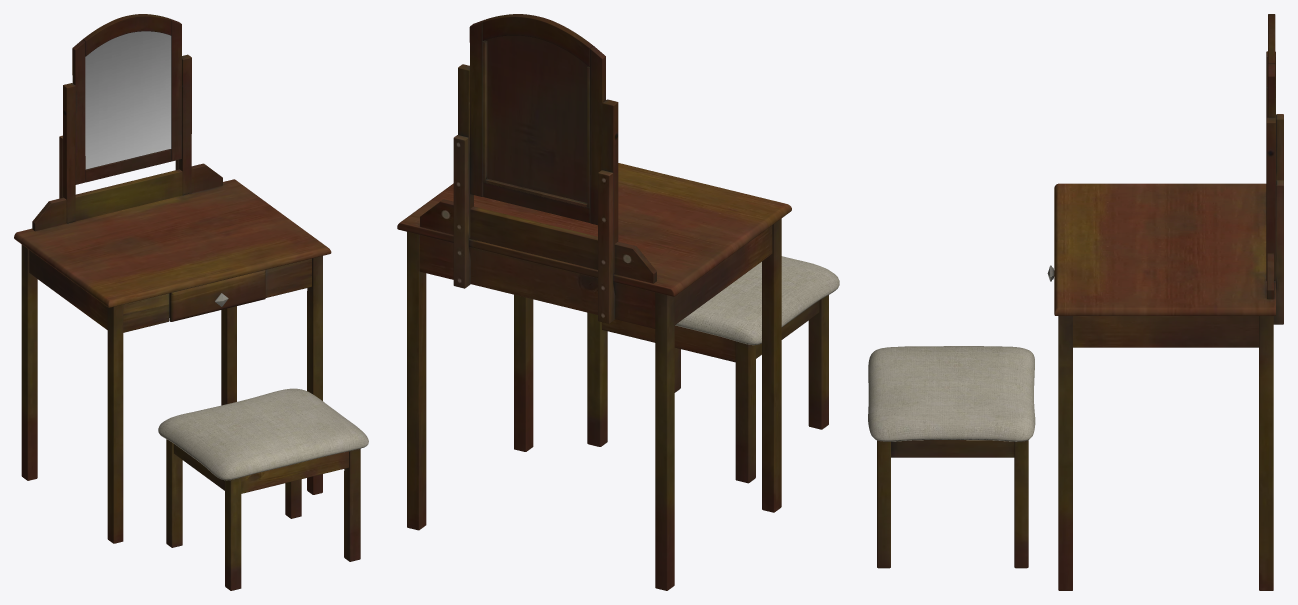
The model's file is abo-B076HF77HC.glb.
3 renders of one model, left to right at view 1: azimuth 30°, elevation 25°; view 2: azimuth 150°, elevation 25°; view 3: azimuth 270°, elevation 25°, orthographic. The views are drawn at different scales.
Size of the model in its own units: 0.876 by 1.63 by 1.21.
1 material, 1 textured.
